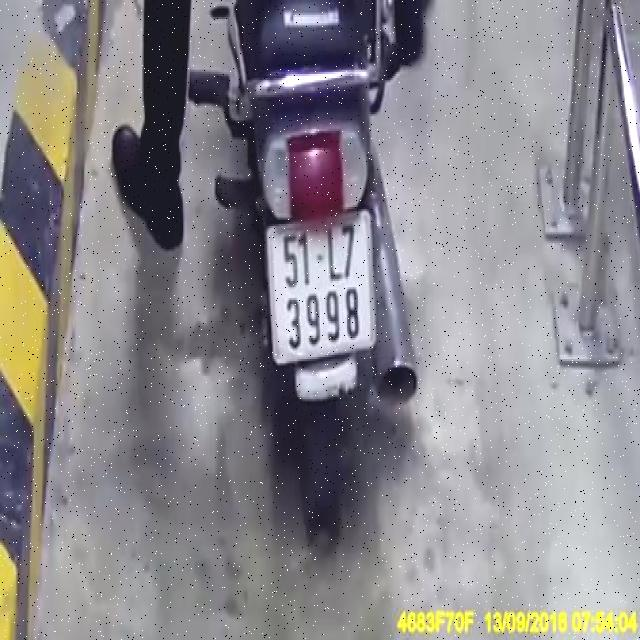1: (297, 229, 315, 292)
3: (284, 294, 305, 352)
5: (280, 233, 298, 290)
7: (342, 219, 358, 285)
8: (342, 287, 363, 341)
9: (324, 284, 342, 348), (305, 288, 322, 352)
L: (322, 222, 345, 282)
